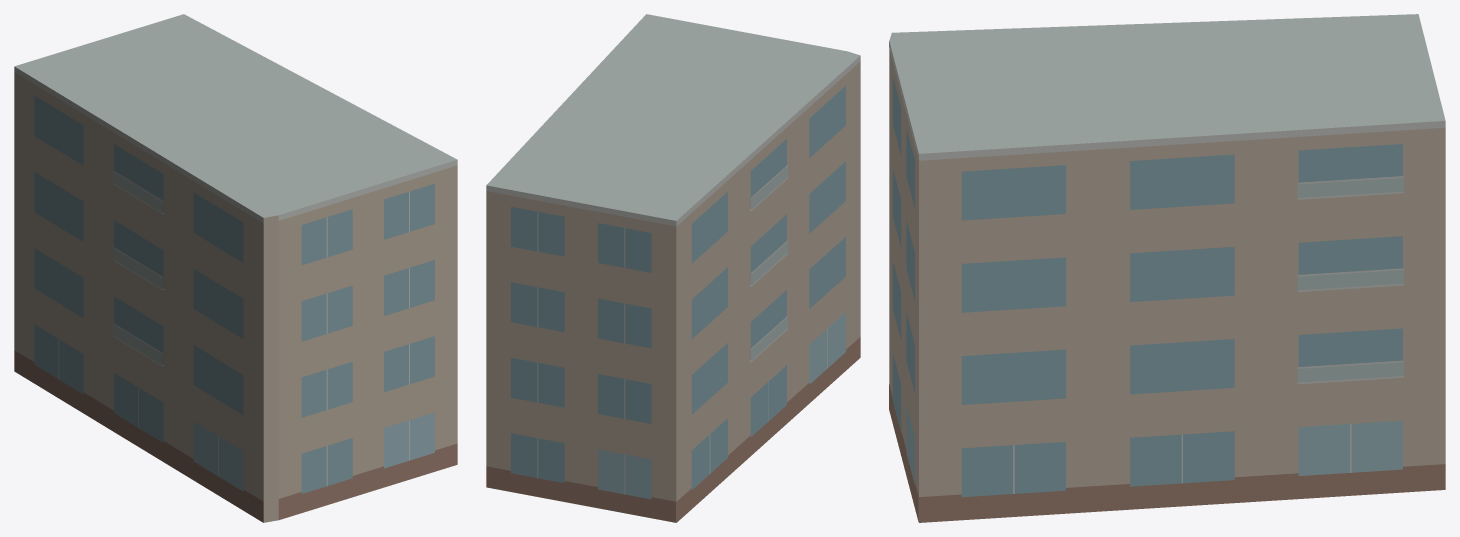
Rendered from survey-upis-32766977.glb.
3 views of the same model, side by side, from view 1: azimuth 30°, elevation 25°; view 2: azimuth 150°, elevation 25°; view 3: azimuth 270°, elevation 25° (orthographic). The views are drawn at different scales.
Visible parts, largest first — view 1: survey-upis-32766977.tmp; view 2: survey-upis-32766977.tmp; view 3: survey-upis-32766977.tmp.
Part boxes in pixels (<box>): survey-upis-32766977.tmp: <box>14,14,457,522</box>; survey-upis-32766977.tmp: <box>486,14,860,522</box>; survey-upis-32766977.tmp: <box>889,14,1445,522</box>.
Bounding box in the file's own units: 10.66 × 13.1 × 17.91.
